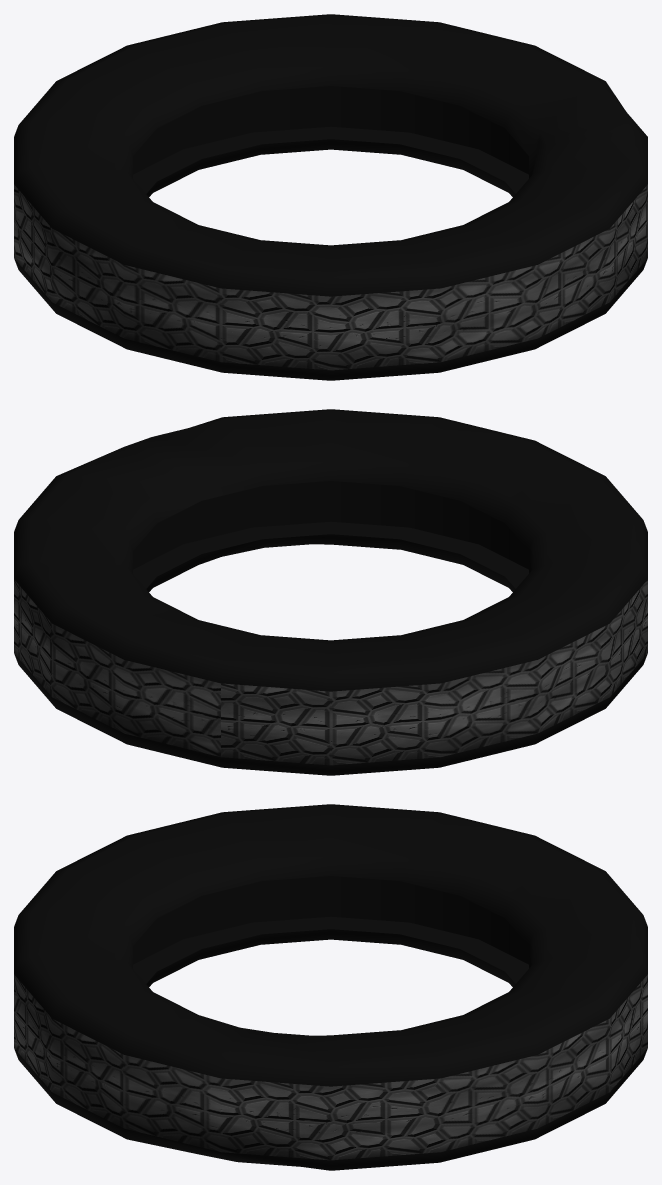
The model's file is pneuUnity.FBX.
3 renders of one model, top to bottom at view 1: azimuth 30°, elevation 25°; view 2: azimuth 150°, elevation 25°; view 3: azimuth 270°, elevation 25°, orthographic.
Visible parts, largest first — view 1: Cylinder001; view 2: Cylinder001; view 3: Cylinder001.
Part boxes in pixels (bbox=[...]): Cylinder001: bbox=[14, 14, 647, 380]; Cylinder001: bbox=[14, 409, 647, 775]; Cylinder001: bbox=[14, 804, 647, 1170].
Bounding box in the file's own units: 18.7 × 3.42 × 18.42.
2 materials, 1 textured.
